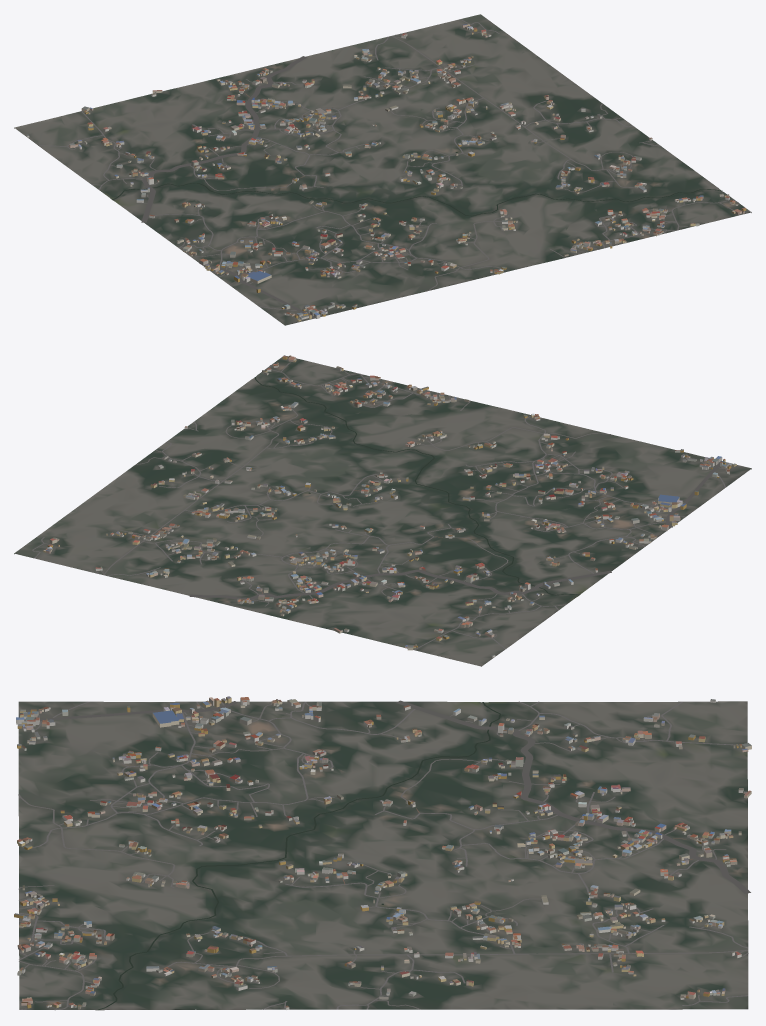
The picture shows the model from 3 angles, top to bottom: view 1: azimuth 30°, elevation 25°; view 2: azimuth 150°, elevation 25°; view 3: azimuth 270°, elevation 25°; orthographic projection. The views are drawn at different scales.
Visible parts, largest first — view 1: ground, buildings, roads, water; view 2: ground, buildings, roads, water; view 3: ground, buildings, roads, water.
Boxes of the visible parts, box(x1,y1,x2,y2) form: ground: box(14, 14, 751, 325); buildings: box(26, 24, 746, 321); roads: box(38, 19, 751, 318); water: box(112, 152, 722, 216); ground: box(14, 355, 751, 666); buildings: box(43, 355, 736, 657); roads: box(32, 355, 725, 650); water: box(254, 377, 579, 595); ground: box(18, 701, 748, 1010); buildings: box(14, 696, 751, 1009); roads: box(18, 700, 750, 1010); water: box(98, 702, 500, 1010).
Size of the model in its own units: 1405 by 21.05 by 1419.
